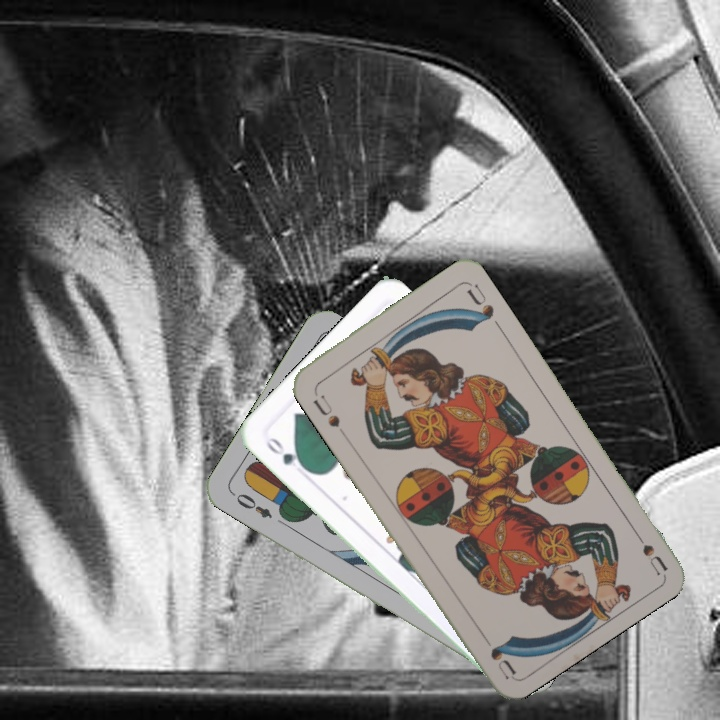EO: (232, 489, 275, 521)
GO: (262, 432, 311, 474)
SU: (627, 522, 670, 576), (309, 385, 343, 430)
